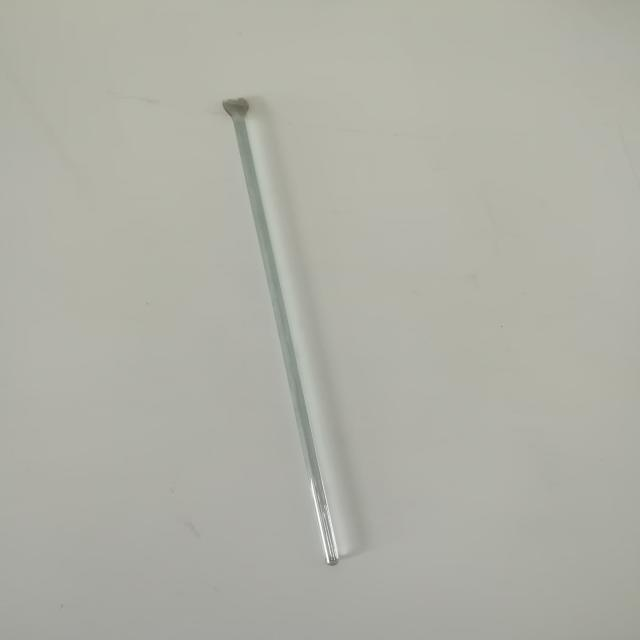Glass_Rod: (196, 80, 416, 592)
